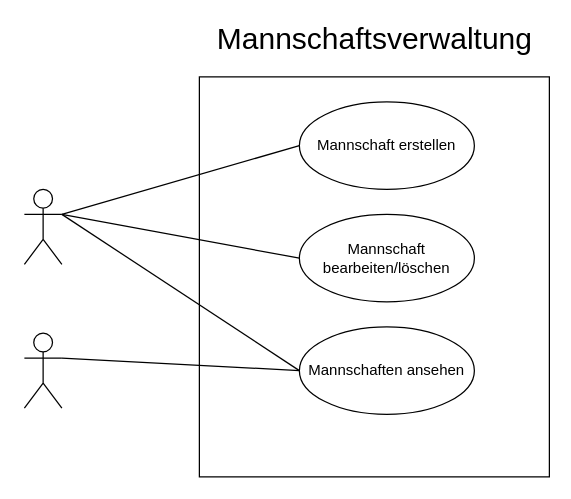
This 571x499 diagram has some shape labels left out. The shapes that lost their labels are listed below. From the top down, each one's centre as x and y in pixels, then its label:
At (x=42, y=226): "Admin".
At (x=42, y=370): "User".
